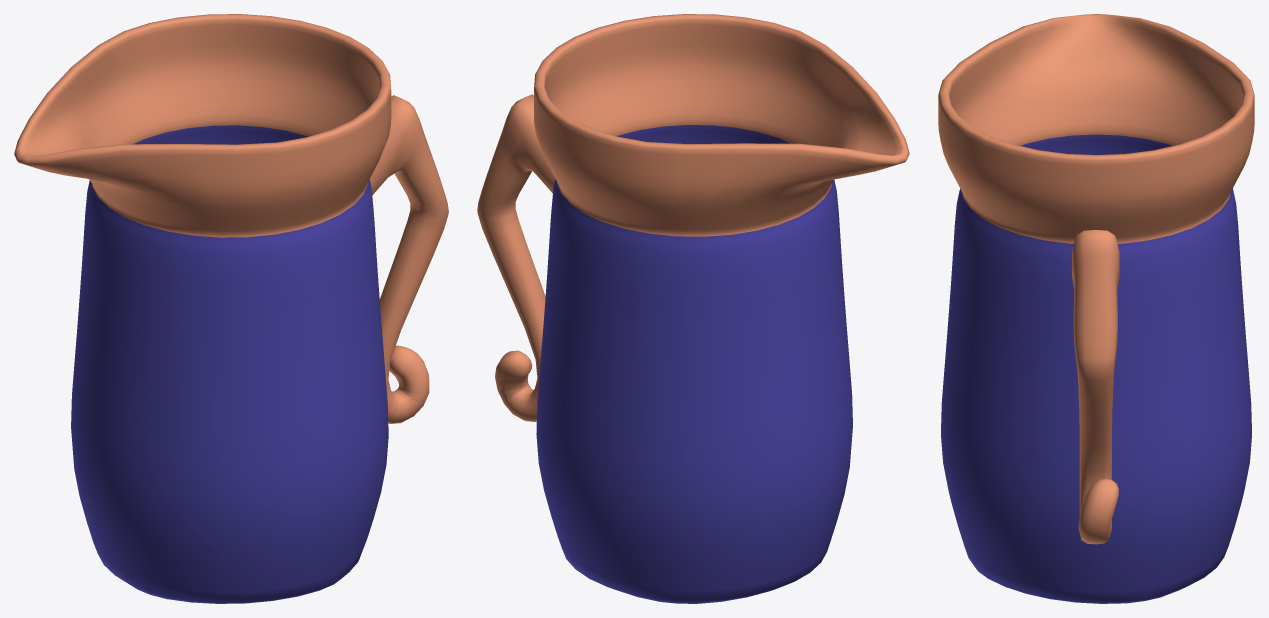
The model's file is luigi_pitcher.fbx.
3 renders of one model, left to right at view 1: azimuth 30°, elevation 25°; view 2: azimuth 150°, elevation 25°; view 3: azimuth 270°, elevation 25°, orthographic. The views are drawn at different scales.
Parts seen in each view (by area): view 1: Cube; view 2: Cube; view 3: Cube.
Part boxes in pixels (box(x1,y1,x2,y2)): Cube: box(14, 14, 448, 603); Cube: box(477, 14, 909, 603); Cube: box(938, 14, 1254, 603).
Size of the model in its own units: 87.35 by 92.46 by 57.32.
